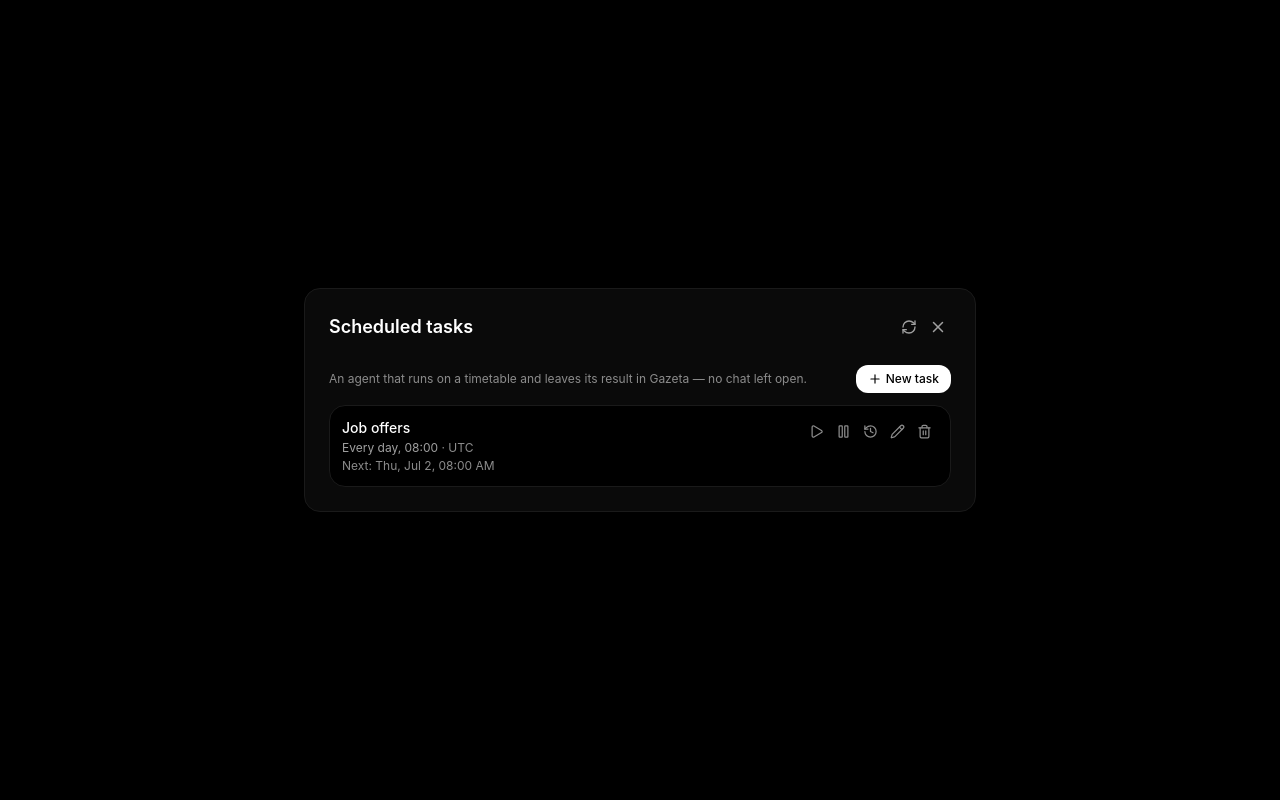
Scenario: SchedulesView list › shows the server's refusal instead of swallowing it
Click the button named "Run Job offers now": (816, 432) [803,418,830,445]
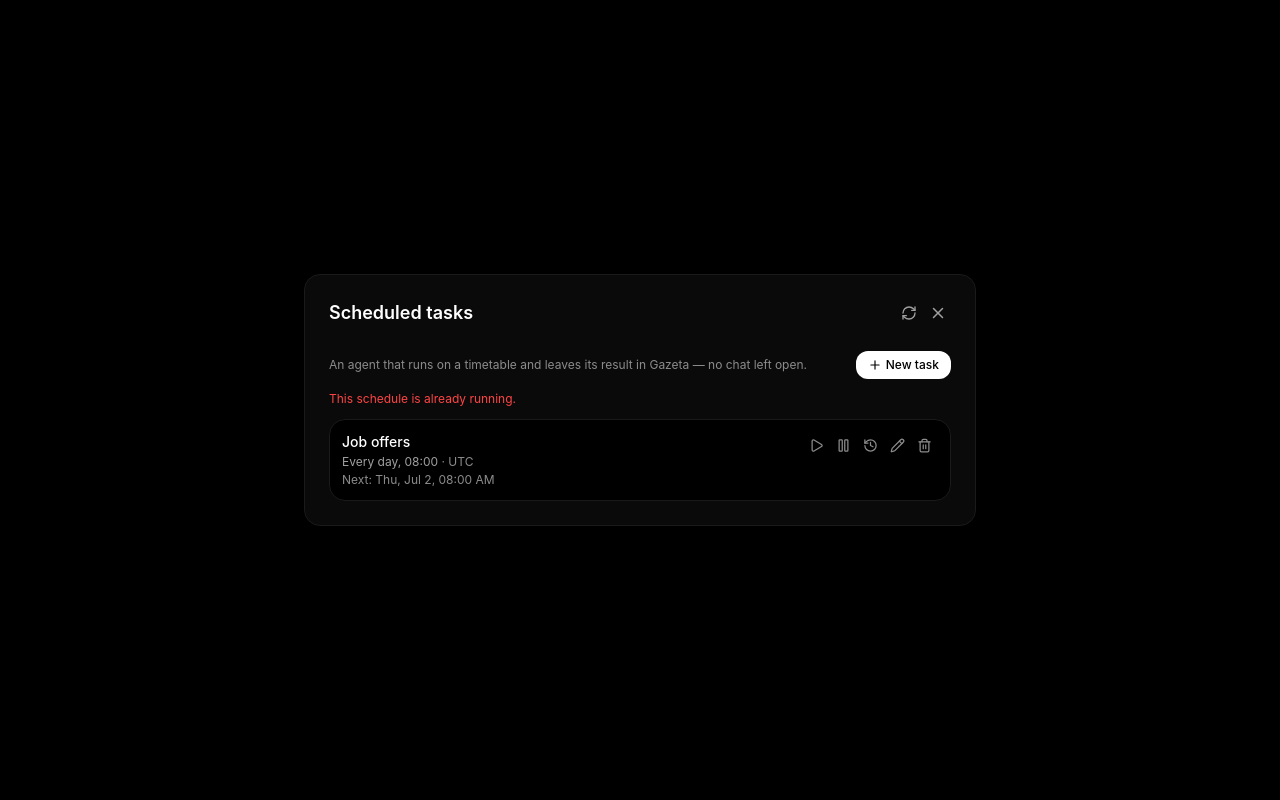
Check: the message shows "already running", box [329,391,516,406]
